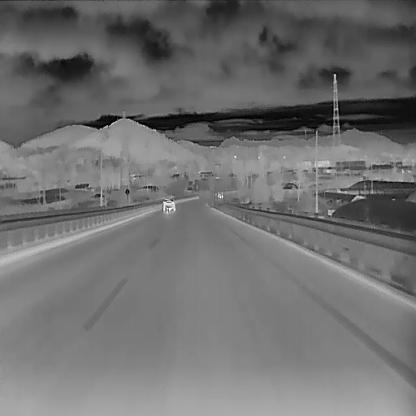car: (160, 196, 175, 210), (217, 191, 222, 198)
